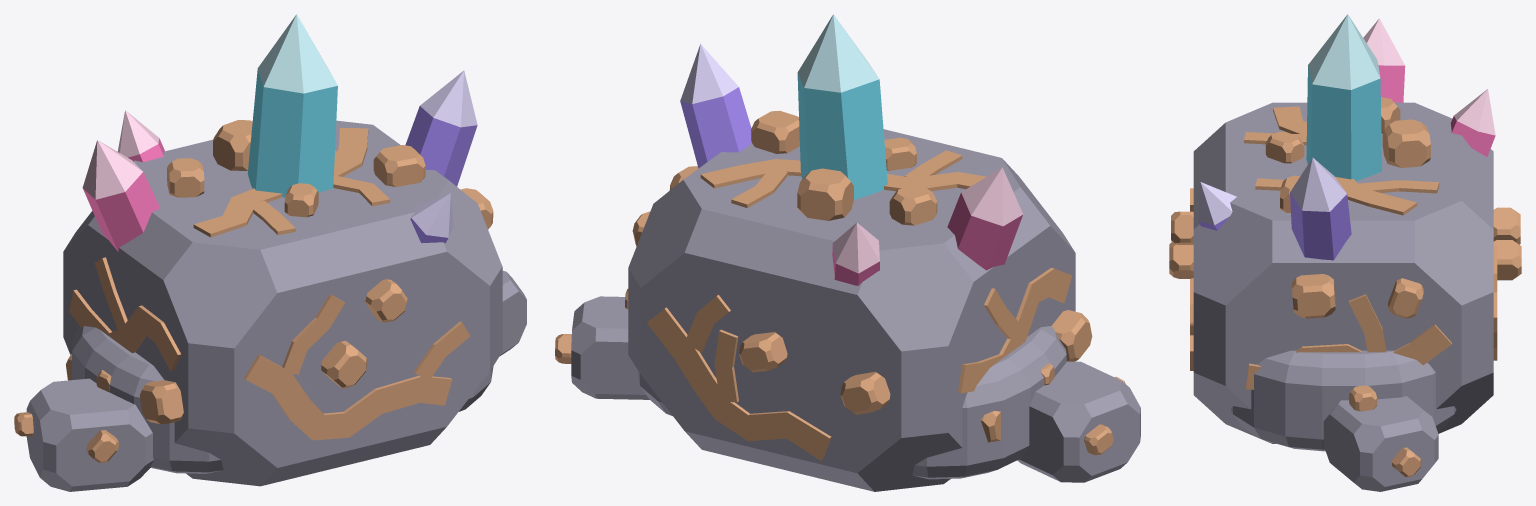
File: w3_gathering.fbx
3 renders of one model, left to right at view 1: azimuth 30°, elevation 25°; view 2: azimuth 150°, elevation 25°; view 3: azimuth 270°, elevation 25°, orthographic. The views are drawn at different scales.
Parts seen in each view (by area): view 1: OreRock.Rock, OreRock.Ore, CrystalNode.Crystal, CrystalNode.Rock, CrystalNode.CrystalLight, CrystalNode.CrystalPurple, CrystalNode.CrystalPink, CrystalNode.CrystalPinkLight, CrystalNode.CrystalPurpleLight; view 2: OreRock.Rock, OreRock.Ore, CrystalNode.Rock, CrystalNode.Crystal, CrystalNode.CrystalPinkLight, CrystalNode.CrystalPurple, CrystalNode.CrystalLight, CrystalNode.CrystalPink, CrystalNode.CrystalPurpleLight; view 3: OreRock.Rock, OreRock.Ore, CrystalNode.Rock, CrystalNode.Crystal, CrystalNode.CrystalLight, CrystalNode.CrystalPurpleLight, CrystalNode.CrystalPurple, CrystalNode.CrystalPinkLight, CrystalNode.CrystalPink.
Boxes of the visible parts, x1,y1,x2,y2 form: OreRock.Rock: [26, 120, 526, 491]; OreRock.Ore: [14, 120, 493, 462]; CrystalNode.Crystal: [247, 69, 337, 197]; CrystalNode.Rock: [72, 326, 493, 473]; CrystalNode.CrystalLight: [257, 14, 337, 93]; CrystalNode.CrystalPurple: [405, 106, 477, 243]; CrystalNode.CrystalPink: [83, 138, 164, 251]; CrystalNode.CrystalPinkLight: [82, 110, 159, 199]; CrystalNode.CrystalPurpleLight: [411, 70, 477, 237]; OreRock.Rock: [571, 129, 1140, 491]; OreRock.Ore: [555, 110, 1125, 460]; CrystalNode.Rock: [638, 326, 1066, 479]; CrystalNode.Crystal: [797, 73, 887, 199]; CrystalNode.CrystalPinkLight: [832, 167, 1022, 273]; CrystalNode.CrystalPurple: [680, 87, 751, 168]; CrystalNode.CrystalLight: [797, 14, 879, 92]; CrystalNode.CrystalPink: [832, 192, 1022, 285]; CrystalNode.CrystalPurpleLight: [680, 44, 738, 103]; OreRock.Rock: [1193, 102, 1493, 491]; OreRock.Ore: [1169, 97, 1521, 477]; CrystalNode.Rock: [1231, 350, 1456, 451]; CrystalNode.Crystal: [1306, 66, 1382, 180]; CrystalNode.CrystalLight: [1308, 14, 1380, 89]; CrystalNode.CrystalPurpleLight: [1198, 157, 1346, 225]; CrystalNode.CrystalPurple: [1198, 193, 1351, 260]; CrystalNode.CrystalPinkLight: [1363, 18, 1495, 135]; CrystalNode.CrystalPink: [1378, 65, 1495, 156].
Bounding box in the file's own units: 10.59 × 7.79 × 6.58.
